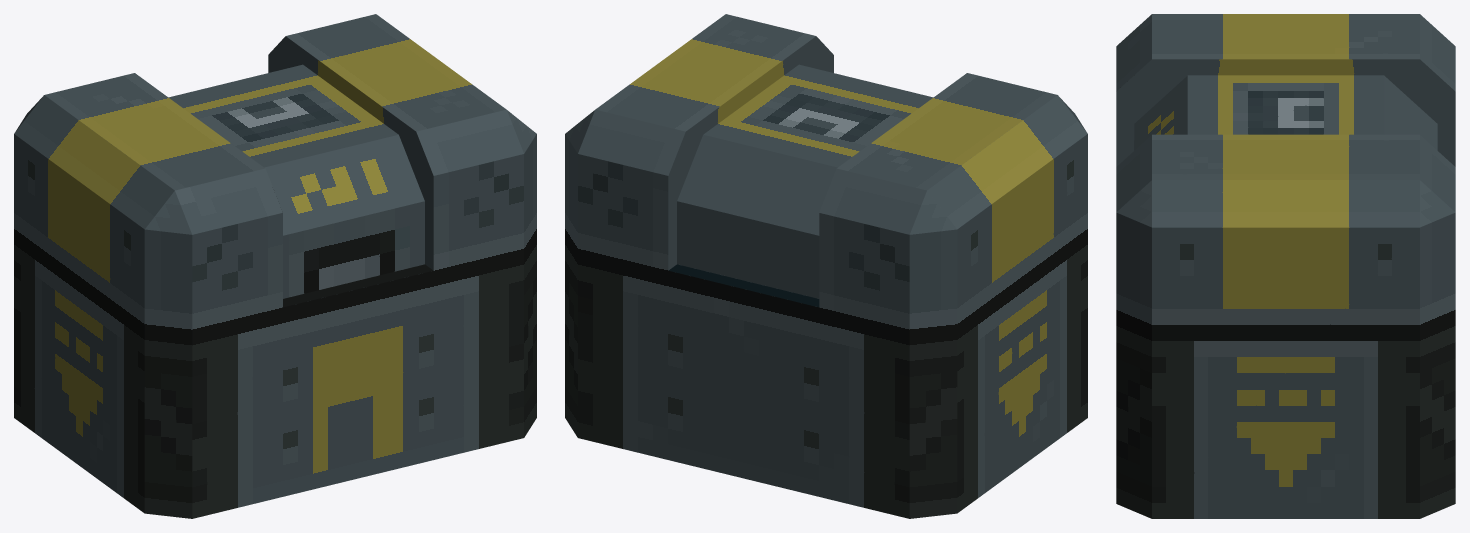
File: tritanium_crate_yellow.obj
The picture shows the model from 3 angles, left to right: view 1: azimuth 30°, elevation 25°; view 2: azimuth 150°, elevation 25°; view 3: azimuth 270°, elevation 25°; orthographic projection. The views are drawn at different scales.
Parts seen in each view (by area): view 1: base; view 2: base; view 3: base.
Boxes of the visible parts, x1=… form: base: x1=14, y1=14, x2=536, y2=518; base: x1=565, y1=14, x2=1087, y2=518; base: x1=1116, y1=14, x2=1455, y2=518.
Size of the model in its own units: 0.9958 by 0.766 by 0.7278.
